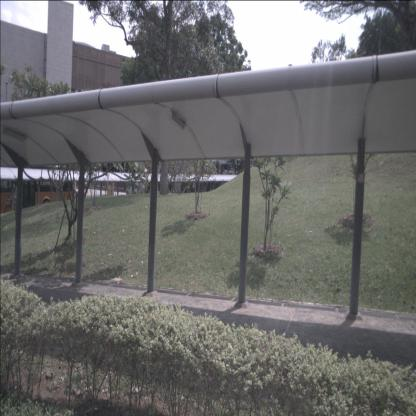vehicle-bicycle: (5, 196, 24, 216)
vehicle-bus-rigid: (0, 176, 78, 217)
vehicle-car: (125, 183, 146, 198)
